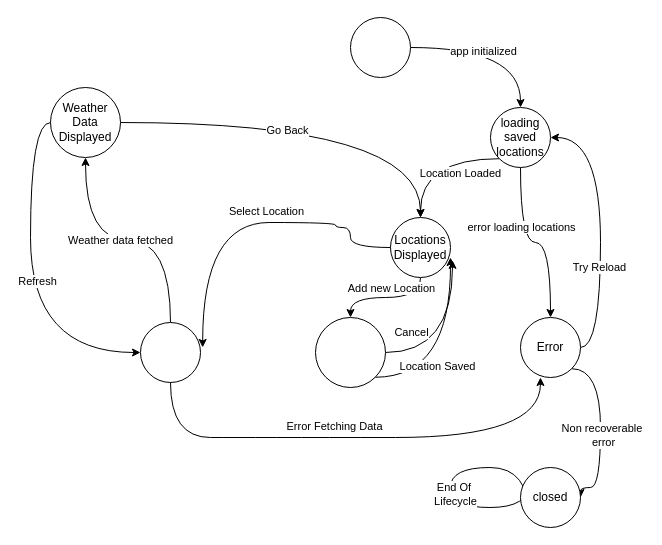
Image size: 662x545. Some labels were removed from this diagram. The shapes that lost their labels are listed below. From the top down, each one's box as (x1, y1, x2, y2) in pixels, then its label:
(350, 16, 410, 78): initialize
(140, 322, 200, 382): fetching weather data
(314, 316, 386, 388): Adding new Loccation
